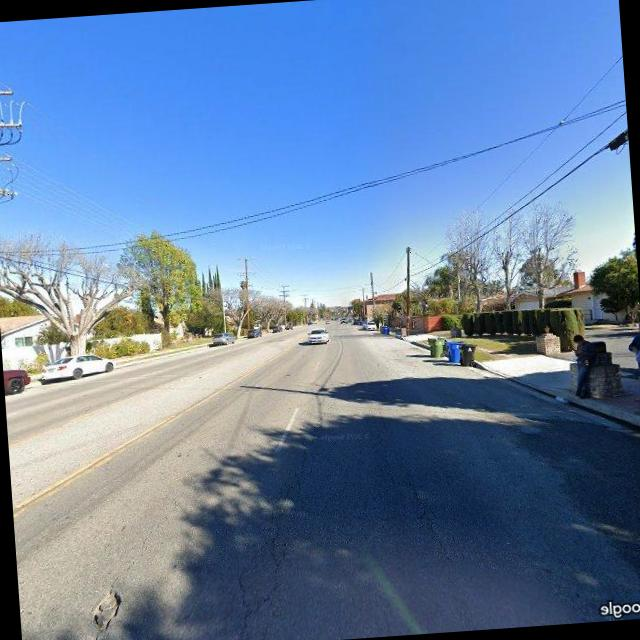crack: (90, 494, 190, 610)
pothole: (88, 585, 129, 632)
